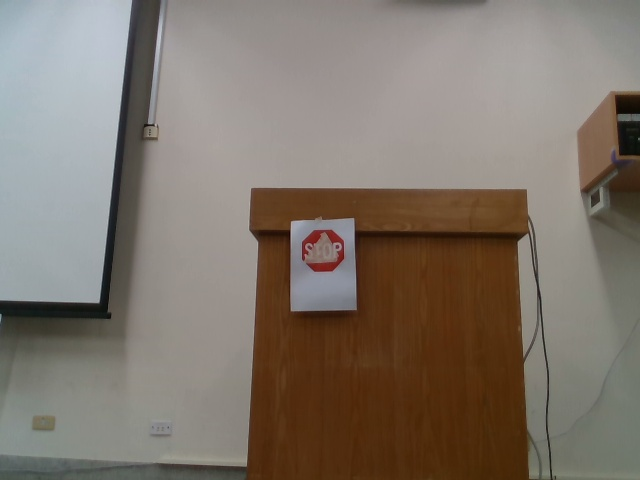stop: (298, 226, 351, 276)
